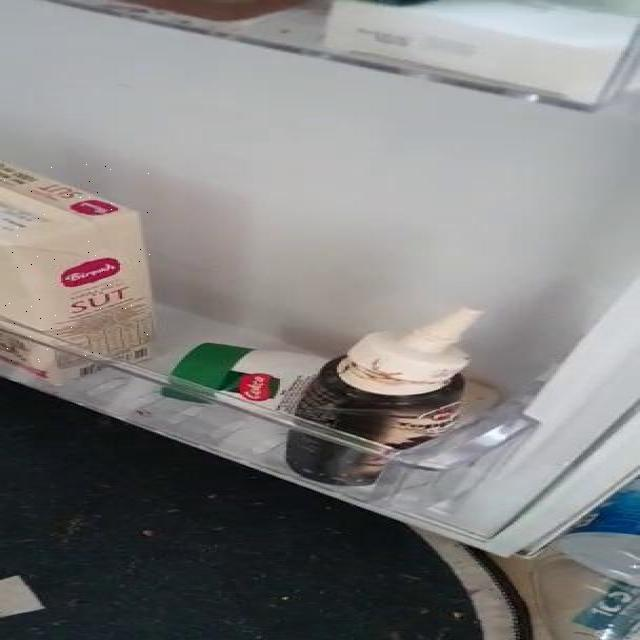milk: (4, 164, 151, 367)
